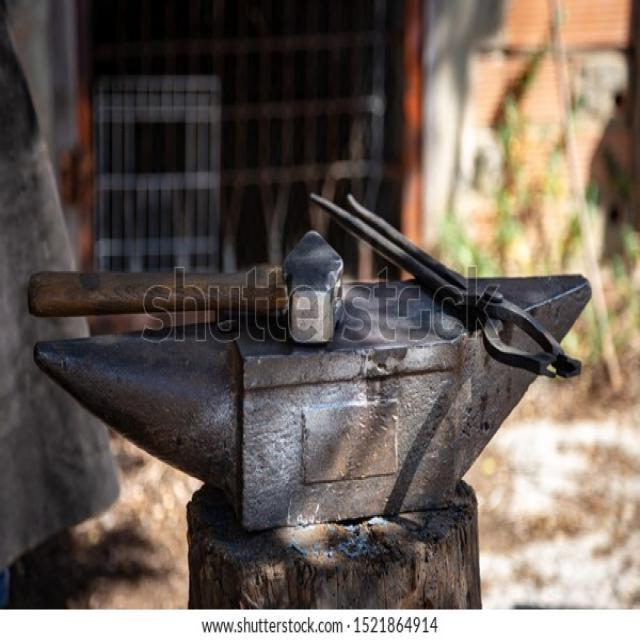hammer: (22, 226, 347, 361)
